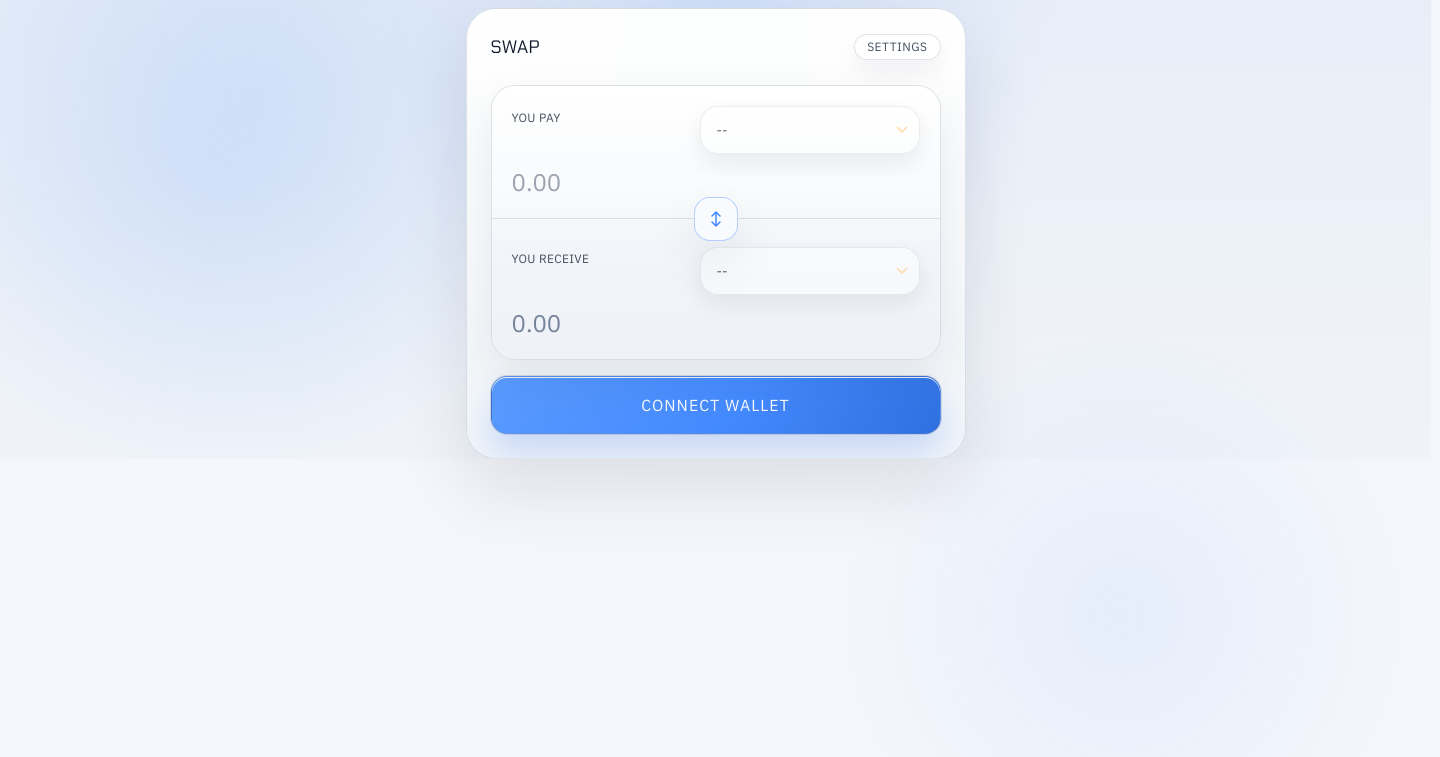
Test case: SwapPage › Slippage protection preset grouping (#528) › keeps Custom outside the chip group and defaults 5% active
This screenshot has width=1440, height=757.
Click the button "Settings" at (897, 47), box [854,34,940,60]
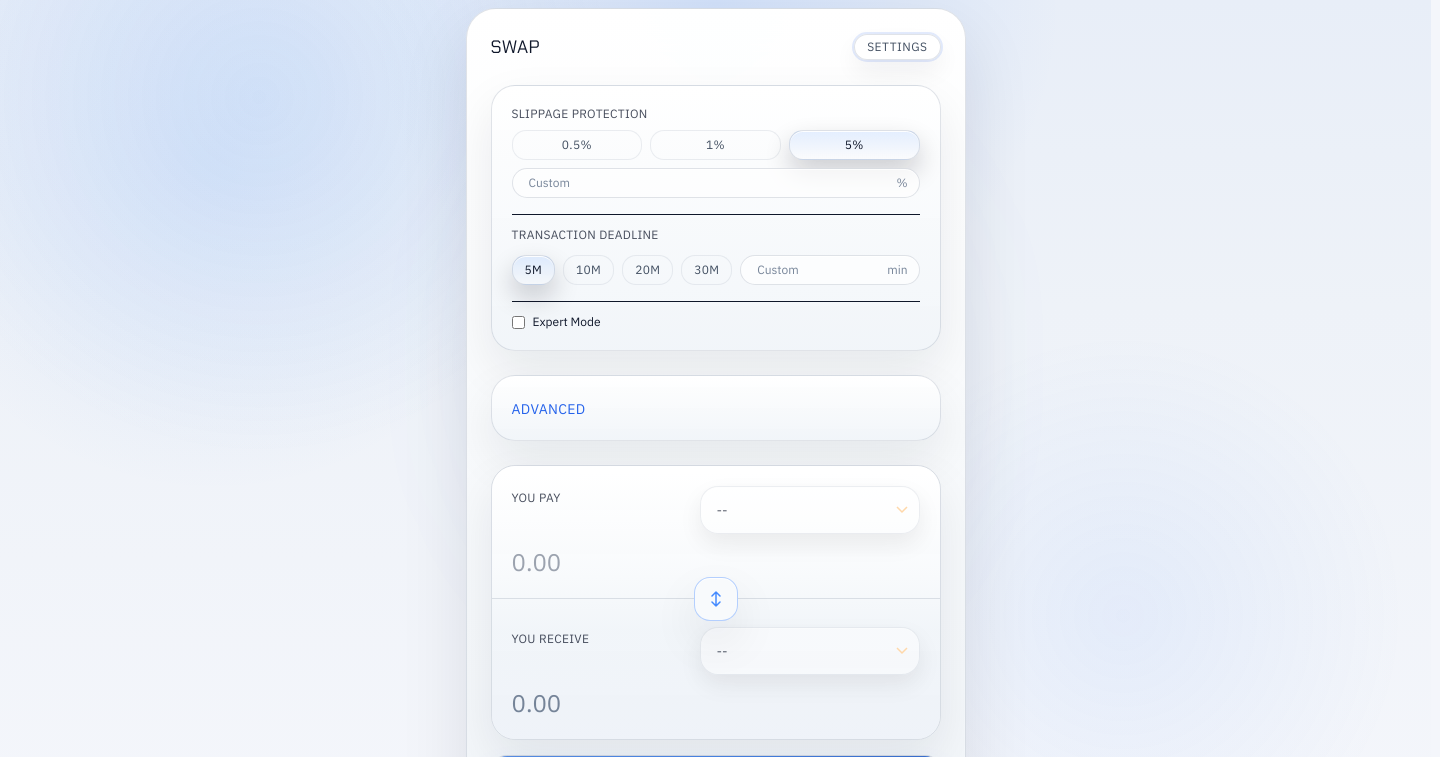
Result: the element with test id "swap-slippage-custom" is shown at [512,168,920,198]
